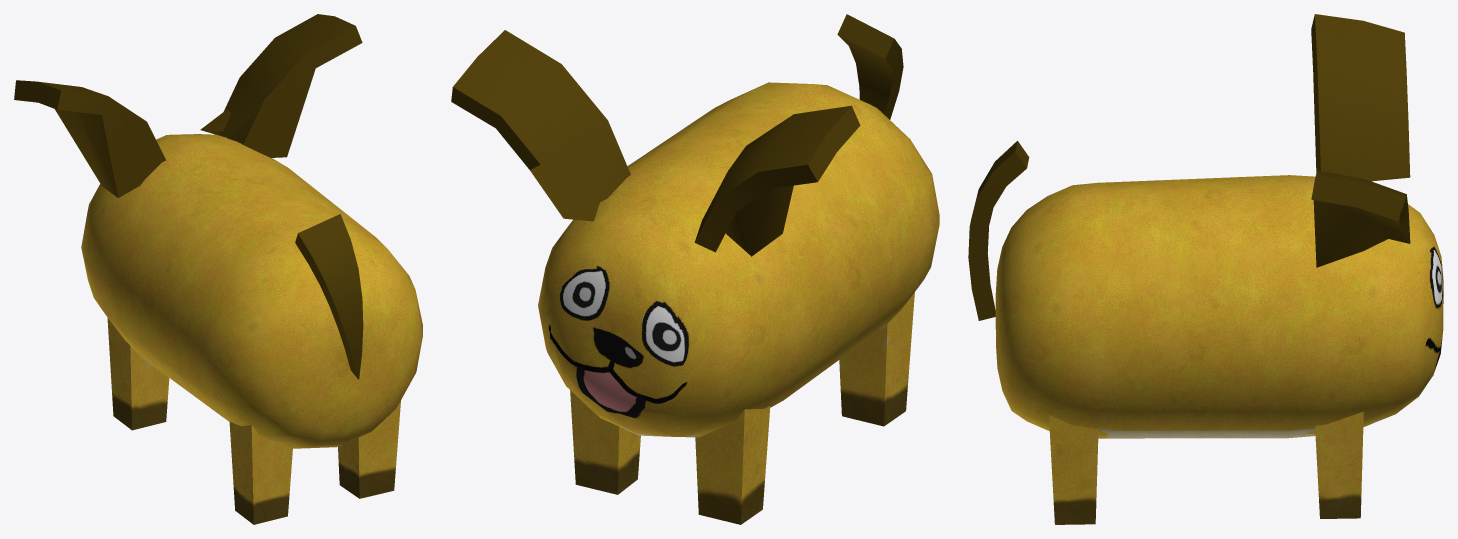
File: ears1.FBX
3 renders of one model, left to right at view 1: azimuth 30°, elevation 25°; view 2: azimuth 150°, elevation 25°; view 3: azimuth 270°, elevation 25°, orthographic. The views are drawn at different scales.
Visible parts, largest first — view 1: ears1; view 2: ears1; view 3: ears1.
Boxes of the visible parts, <box> form: ears1: <box>14,14,422,524</box>; ears1: <box>451,14,939,524</box>; ears1: <box>968,14,1443,524</box>.
Size of the model in its own units: 36.24 by 40.54 by 43.92.
1 material, 1 textured.
